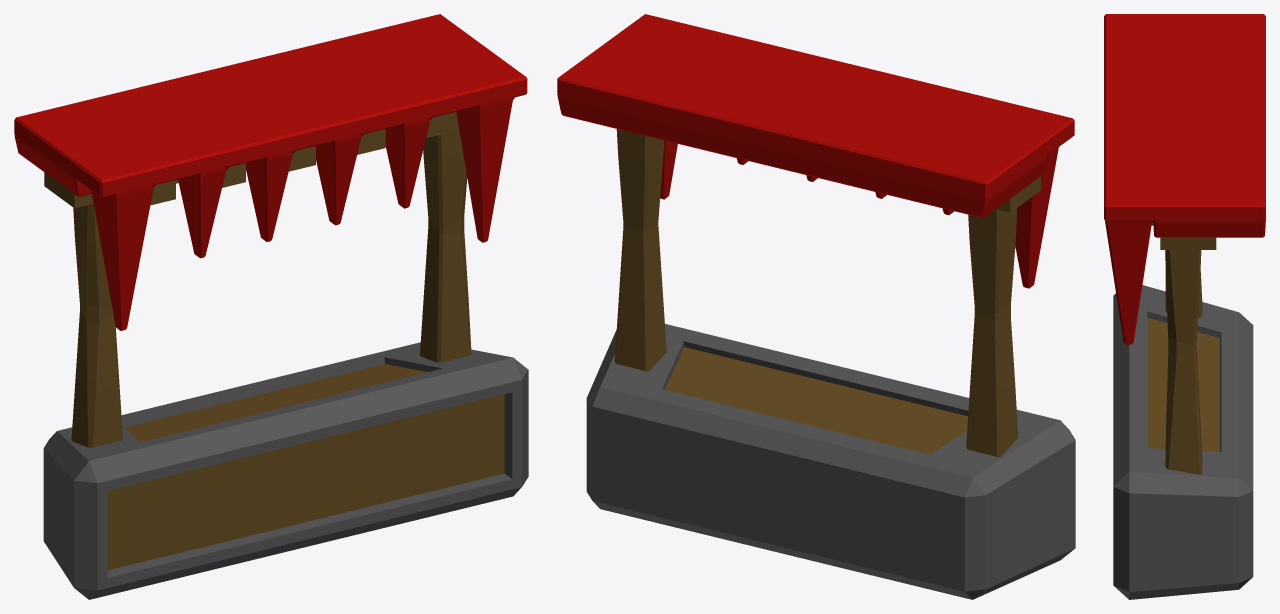
File: shop.fbx
The picture shows the model from 3 angles, left to right: view 1: azimuth 30°, elevation 25°; view 2: azimuth 150°, elevation 25°; view 3: azimuth 270°, elevation 25°; orthographic projection. The views are drawn at different scales.
Parts seen in each view (by area): view 1: Cube.003, Cube, Cube.004, Cube.001, Cube.002; view 2: Cube, Cube.003, Cube.001, Cube.004; view 3: Cube.003, Cube, Cube.001, Cube.004, Cube.002.
Boxes of the visible parts, x1,y1,x2,y2 form: Cube.003: (14,14,527,330); Cube: (43,342,528,599); Cube.004: (107,364,504,570); Cube.001: (71,115,471,447); Cube.002: (44,112,456,208); Cube: (586,324,1075,599); Cube.003: (557,14,1074,288); Cube.001: (614,129,1018,456); Cube.004: (665,347,967,454); Cube.003: (1104,14,1265,344); Cube: (1113,285,1253,599); Cube.001: (1165,250,1202,474); Cube.004: (1147,317,1219,451); Cube.002: (1151,222,1216,249).
Size of the model in its own units: 685 by 621 by 229.
